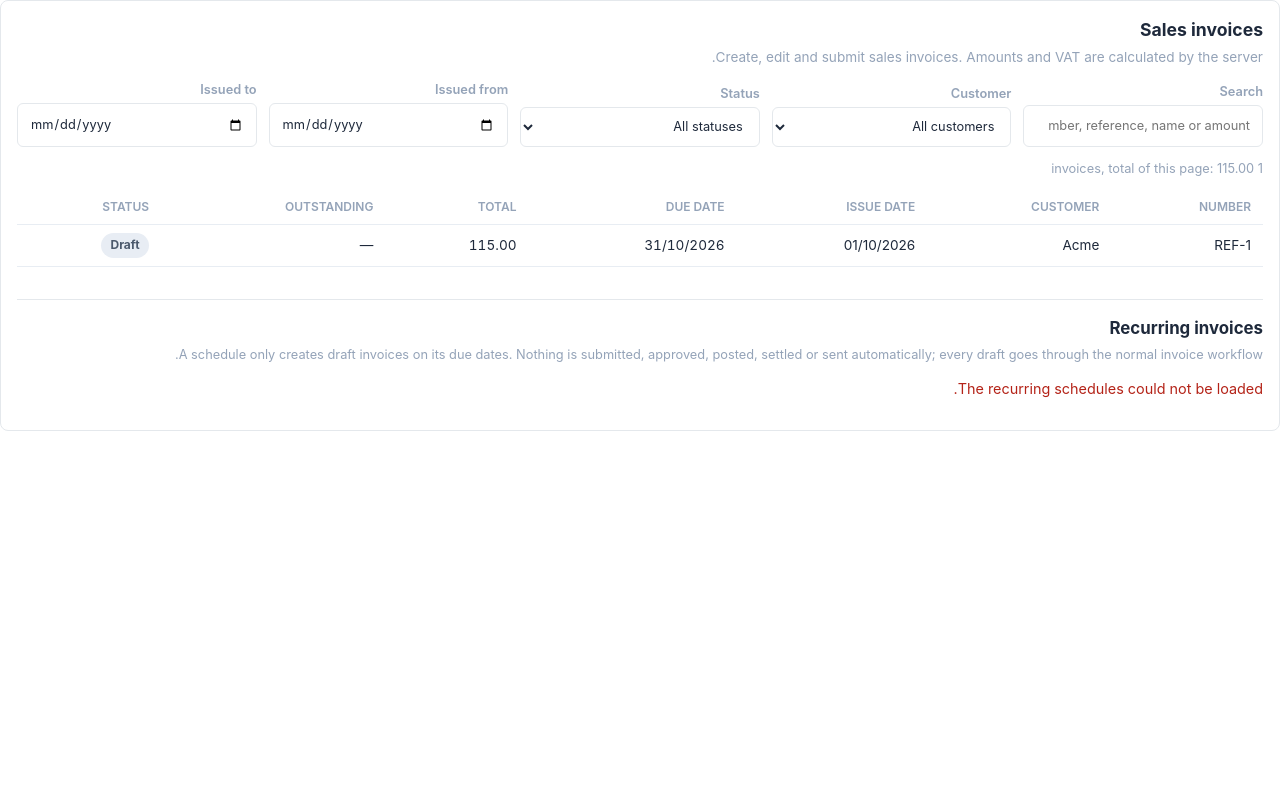
Test case: Sales invoices › hides actions the user has no capability for
The image size is (1280, 800).
Click the text "REF-1" at [1187, 245], box 1111,225 -> 1263,266
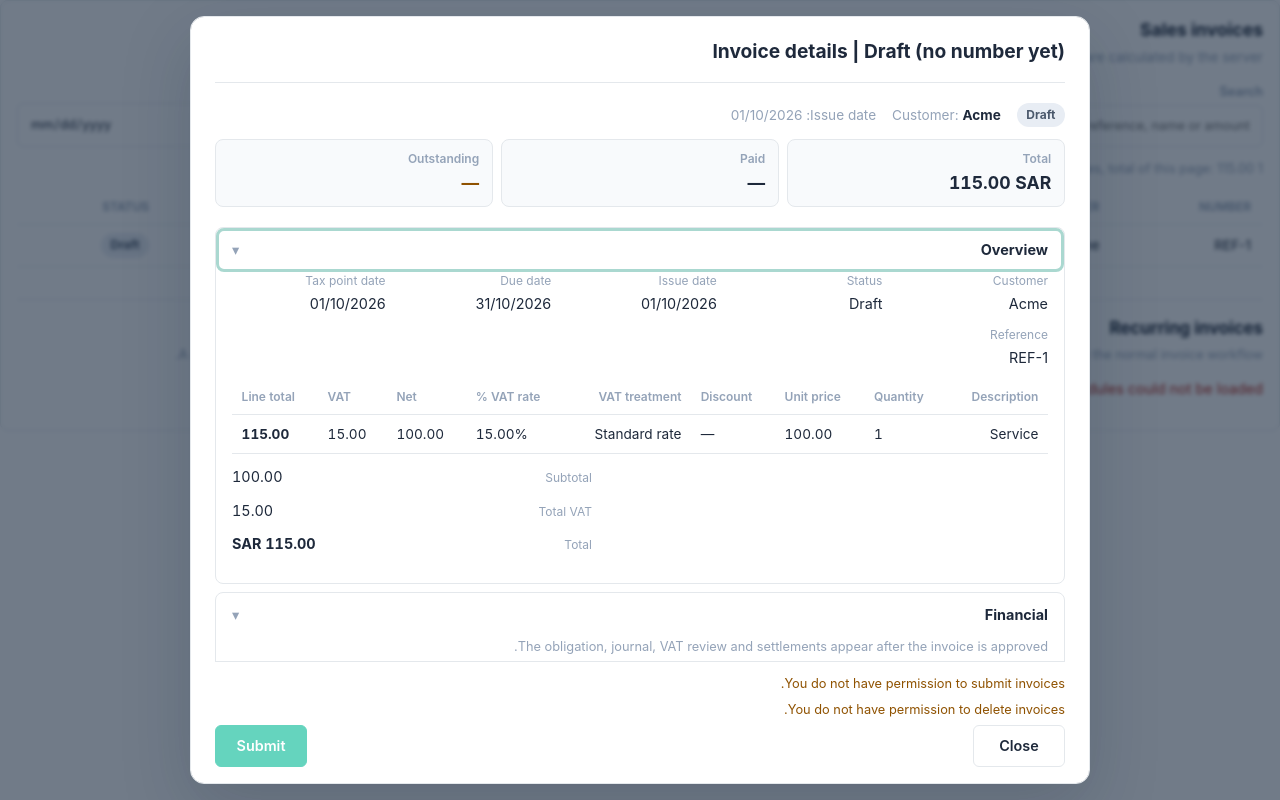
Expected: the dialog is shown
Expected: the button "Submit" is disabled, 215,726 -> 307,767
Expected: the text with test id "next-action-note" reads "You do not have permission to submit invoices.", 781,677 -> 1065,692
